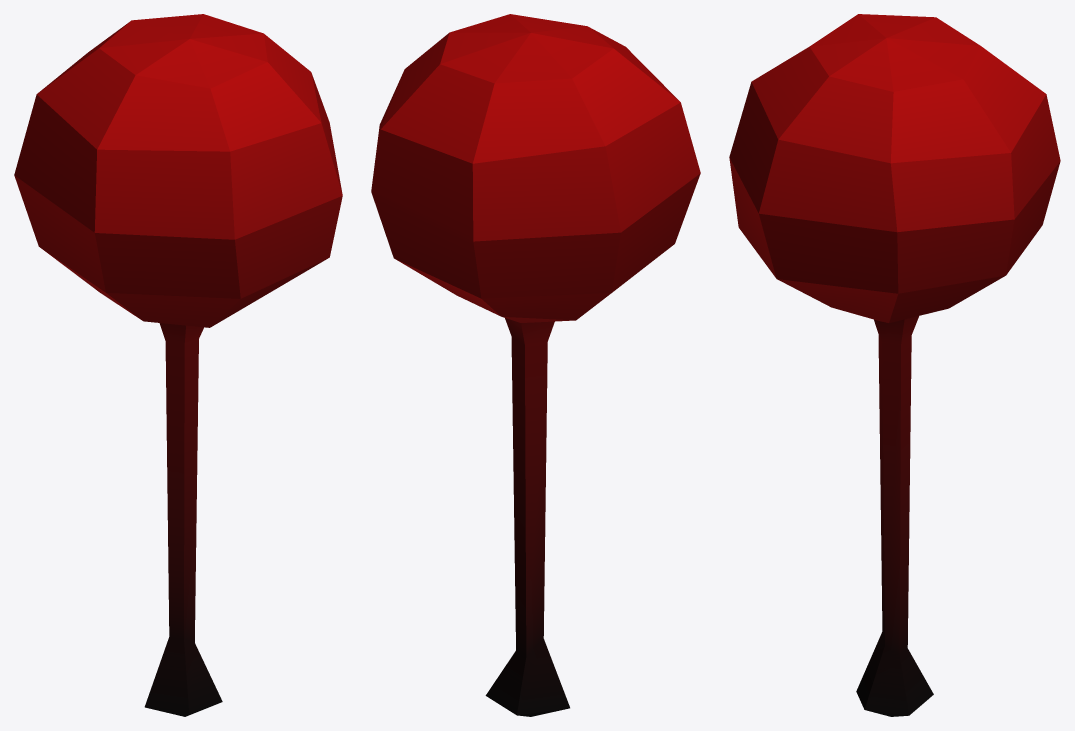
File: SM_Env_Plant_Balloon_01.fbx
3 renders of one model, left to right at view 1: azimuth 30°, elevation 25°; view 2: azimuth 150°, elevation 25°; view 3: azimuth 270°, elevation 25°, orthographic.
Parts seen in each view (by area): view 1: SM_Env_Plant_Balloon_01; view 2: SM_Env_Plant_Balloon_01; view 3: SM_Env_Plant_Balloon_01.
Boxes of the visible parts, x1,y1,x2,y2 form: SM_Env_Plant_Balloon_01: (14, 14, 342, 716); SM_Env_Plant_Balloon_01: (371, 14, 700, 716); SM_Env_Plant_Balloon_01: (729, 14, 1060, 716).
Size of the model in its own units: 106 by 247 by 109.
